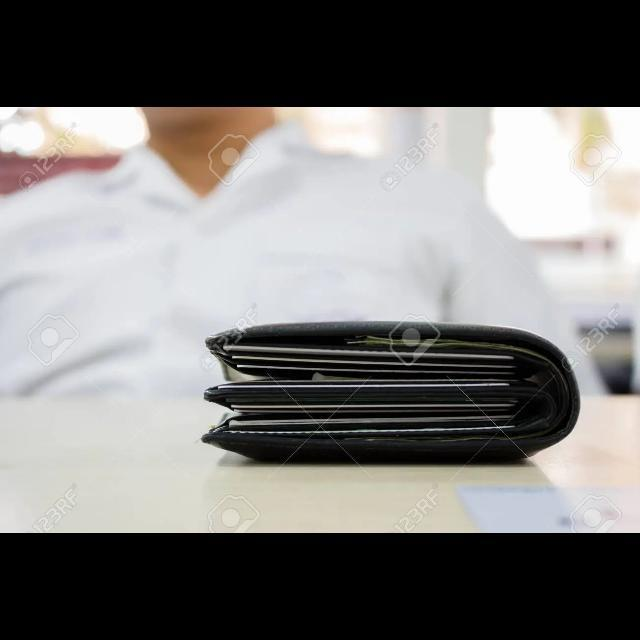wallet: (204, 313, 596, 473)
